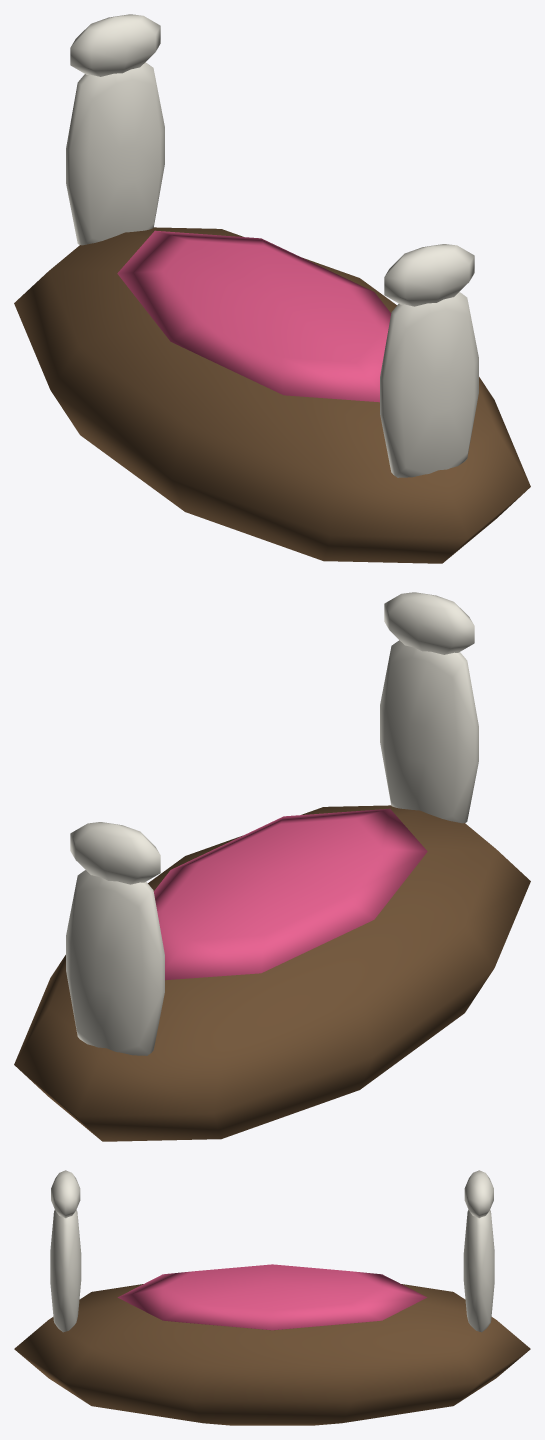
Rendered from prop_nisan_a.glb.
3 renders of one model, top to bottom at view 1: azimuth 30°, elevation 25°; view 2: azimuth 150°, elevation 25°; view 3: azimuth 270°, elevation 25°, orthographic. The views are drawn at different scales.
Parts seen in each view (by area): view 1: nisan_a; view 2: nisan_a; view 3: nisan_a.
Part boxes in pixels (x1,y1,x2,y2): nisan_a: [14, 14, 530, 563]; nisan_a: [14, 592, 530, 1141]; nisan_a: [14, 1170, 530, 1425].
Bounding box in the file's own units: 0.9511 × 0.99 × 2.
